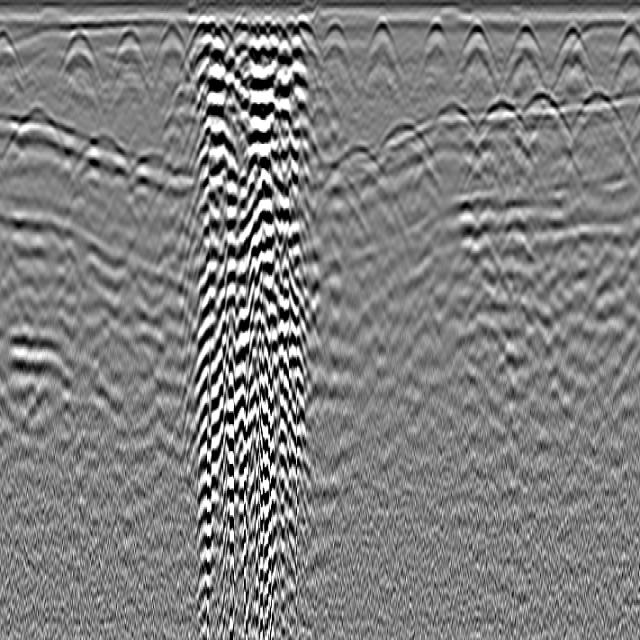hyperbola: (330, 140, 404, 214), (305, 157, 371, 235), (1, 102, 76, 167), (134, 159, 193, 234), (511, 85, 578, 142), (568, 85, 633, 141), (375, 120, 444, 164), (68, 127, 128, 175), (104, 24, 151, 85), (433, 100, 489, 150), (476, 93, 531, 134), (54, 30, 101, 76), (128, 151, 182, 191), (364, 19, 405, 68), (507, 25, 549, 70), (555, 22, 598, 65), (459, 22, 501, 65), (417, 16, 454, 62), (315, 22, 356, 60), (152, 21, 187, 54), (301, 24, 326, 59), (616, 22, 639, 51)
